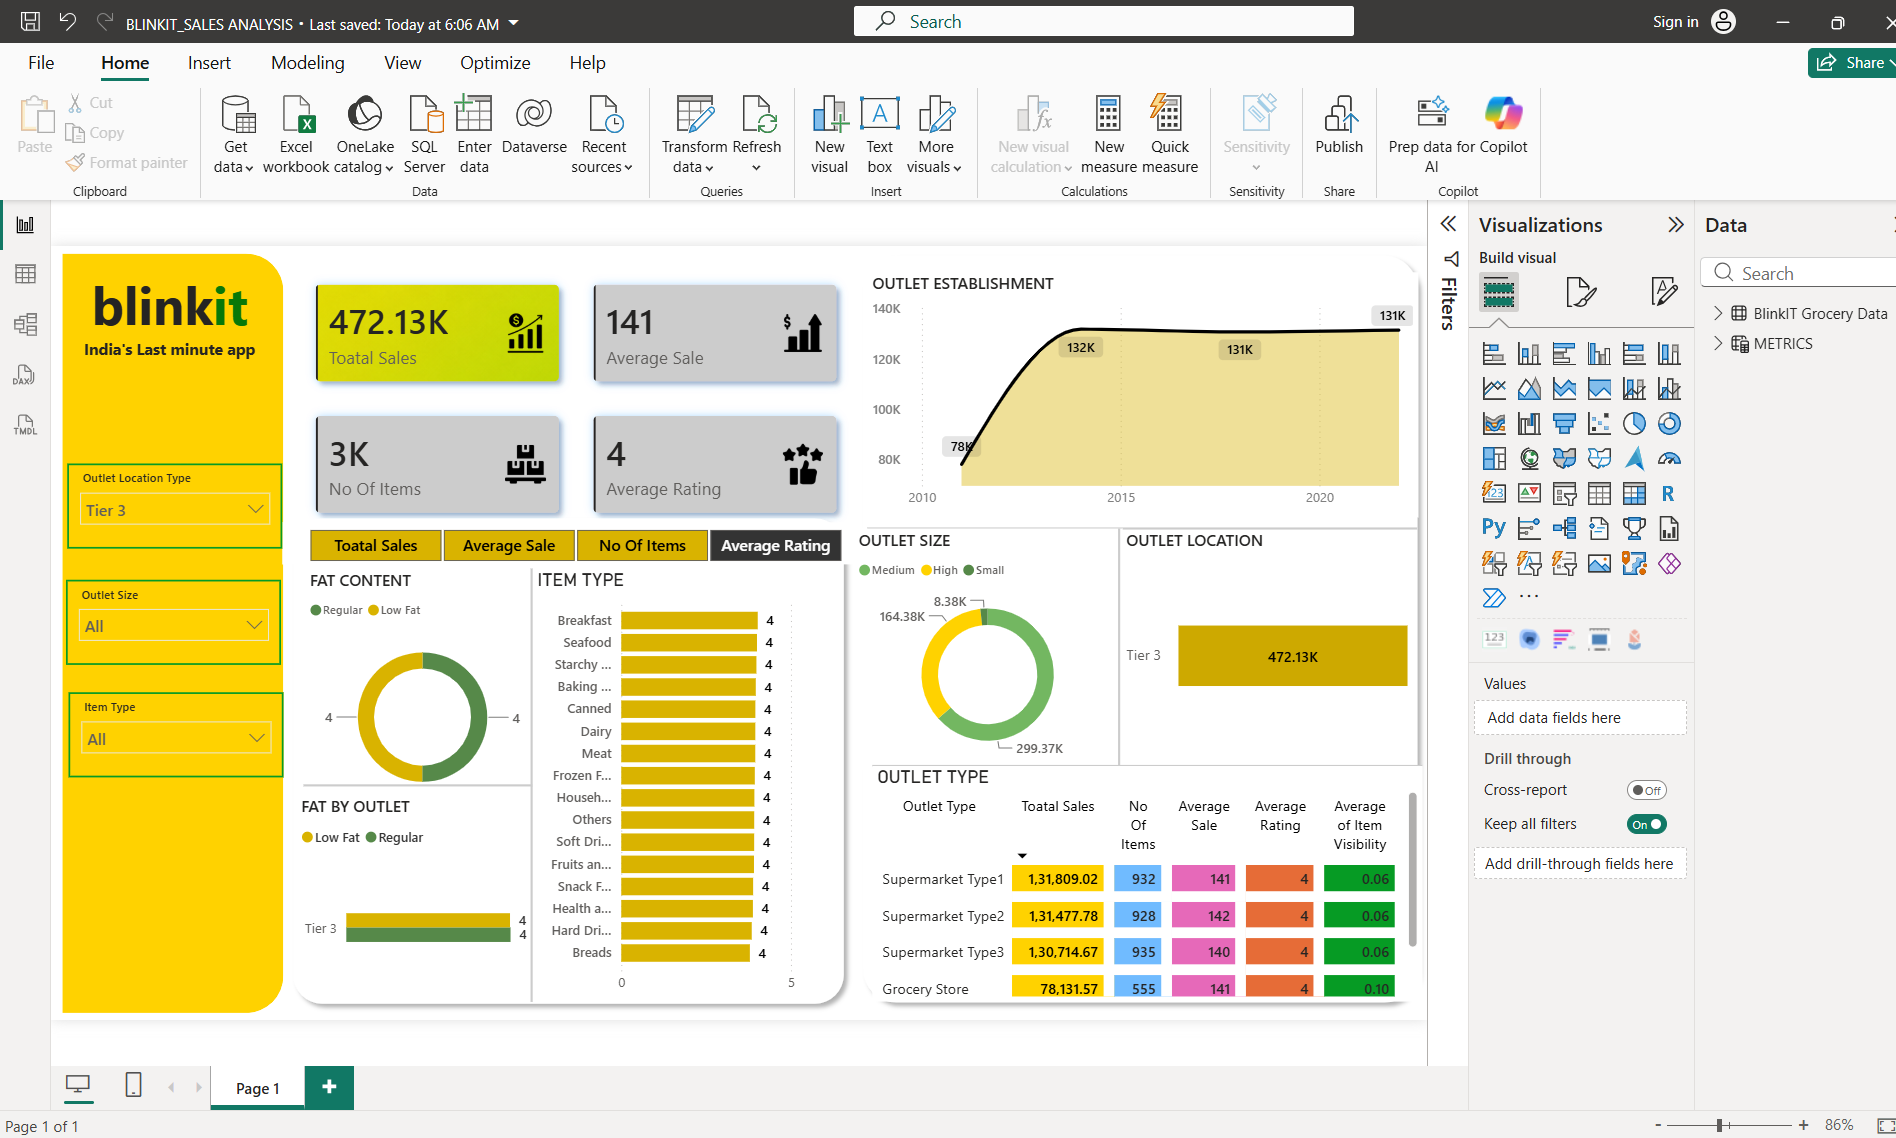

What the dashboard file says about the page in this screenshot:
{"tool":"powerbi","page":{"name":"Page 1","canvas":[1280,720],"ordinal":0},"visuals":[{"type":"shape","box":[11,6.9,205.8,706.7],"z":0},{"type":"textbox","box":[10.5,16.3,200,98.8],"z":1000},{"type":"cardVisual","fields":{"Data":["BlinkIT Grocery Data.Toatal Sales","BlinkIT Grocery Data.Average Sale","BlinkIT Grocery Data.No Of Items","BlinkIT Grocery Data.Average Rating"]},"box":[217.2,7.3,542.5,270.2],"z":2000},{"type":"shape","box":[216.3,244.2,530.2,469.8],"z":3000},{"type":"donutChart","title":"FAT CONTENT","fields":{"Category":["BlinkIT Grocery Data.Item Fat Content"],"Y":["BlinkIT Grocery Data.Average Rating"]},"box":[236,300.5,219.6,229.2],"z":4000},{"type":"slicer","fields":{"Values":["METRICS.METRICS"]},"box":[215.1,257,544.2,39.5],"z":5000},{"type":"clusteredBarChart","title":"FAT BY OUTLET","fields":{"Category":["BlinkIT Grocery Data.Outlet Location Type"],"Series":["BlinkIT Grocery Data.Item Fat Content"],"Y":["BlinkIT Grocery Data.Average Rating"]},"box":[227.9,510.5,219.8,193],"z":6000},{"type":"shape","box":[420.9,300,52.3,403.5],"z":7000},{"type":"shape","box":[234.9,474.4,212.8,54.7],"z":8000},{"type":"barChart","title":"ITEM TYPE","fields":{"Category":["BlinkIT Grocery Data.Item Type"],"Y":["BlinkIT Grocery Data.Average Rating"]},"box":[447.7,300,281.4,403.5],"z":9000},{"type":"shape","box":[746.5,0,533.7,712.8],"z":10000},{"type":"lineChart","title":"OUTLET ESTABLISHMENT","fields":{"Category":["BlinkIT Grocery Data.Outlet Establishment Year"],"Y":["BlinkIT Grocery Data.Toatal Sales"]},"box":[759.3,24.4,512.8,227.9],"z":11000},{"type":"shape","box":[759.3,244.2,511.6,37.2],"z":12000},{"type":"donutChart","title":"OUTLET SIZE","fields":{"Category":["BlinkIT Grocery Data.Outlet Size"],"Y":["BlinkIT Grocery Data.Toatal Sales"]},"box":[746.5,262.8,250,224.4],"z":13000},{"type":"shape","box":[967.4,262.8,52.3,220.9],"z":14000},{"type":"funnel","title":"OUTLET LOCATION","fields":{"Category":["BlinkIT Grocery Data.Outlet Location Type"],"Y":["Sum(BlinkIT Grocery Data.Sales)"]},"box":[995.4,262.8,276.7,216.3],"z":15000},{"type":"shape","box":[764,465.1,511.6,37.2],"z":16000},{"type":"pivotTable","title":"OUTLET TYPE","fields":{"Rows":["BlinkIT Grocery Data.Outlet Type"],"Values":["BlinkIT Grocery Data.Toatal Sales","BlinkIT Grocery Data.No Of Items","BlinkIT Grocery Data.Average Sale","BlinkIT Grocery Data.Average Rating","Avg(BlinkIT Grocery Data.Item Visibility)"]},"box":[764,484,512,219],"z":17000},{"type":"slicer","fields":{"Values":["BlinkIT Grocery Data.Outlet Location Type"]},"box":[15.1,202.3,200,79.1],"z":18000},{"type":"slicer","fields":{"Values":["BlinkIT Grocery Data.Outlet Size"]},"box":[14,310,200,79],"z":19000},{"type":"slicer","fields":{"Values":["BlinkIT Grocery Data.Item Type"]},"box":[16,415,200,79],"z":20000}]}

Visuals, with their boxes on the page's 1280x720 design canvas (x1, y1, x2, y2). These are canvas units, not pixel positions in the 1896x1138 screenshot, which may show the page scaled, cropped or inside an application window:
shape: 11,7,217,714
textbox: 10,16,210,115
cardVisual - BlinkIT Grocery Data.Toatal Sales x BlinkIT Grocery Data.Average Sale: 217,7,760,278
shape: 216,244,746,714
"FAT CONTENT" donutChart: 236,300,456,530
slicer - METRICS.METRICS: 215,257,759,296
"FAT BY OUTLET" clusteredBarChart: 228,510,448,704
shape: 421,300,473,704
shape: 235,474,448,529
"ITEM TYPE" barChart: 448,300,729,704
shape: 746,0,1280,713
"OUTLET ESTABLISHMENT" lineChart: 759,24,1272,252
shape: 759,244,1271,281
"OUTLET SIZE" donutChart: 746,263,996,487
shape: 967,263,1020,484
"OUTLET LOCATION" funnel: 995,263,1272,479
shape: 764,465,1276,502
"OUTLET TYPE" pivotTable: 764,484,1276,703
slicer - BlinkIT Grocery Data.Outlet Location Type: 15,202,215,281
slicer - BlinkIT Grocery Data.Outlet Size: 14,310,214,389
slicer - BlinkIT Grocery Data.Item Type: 16,415,216,494
